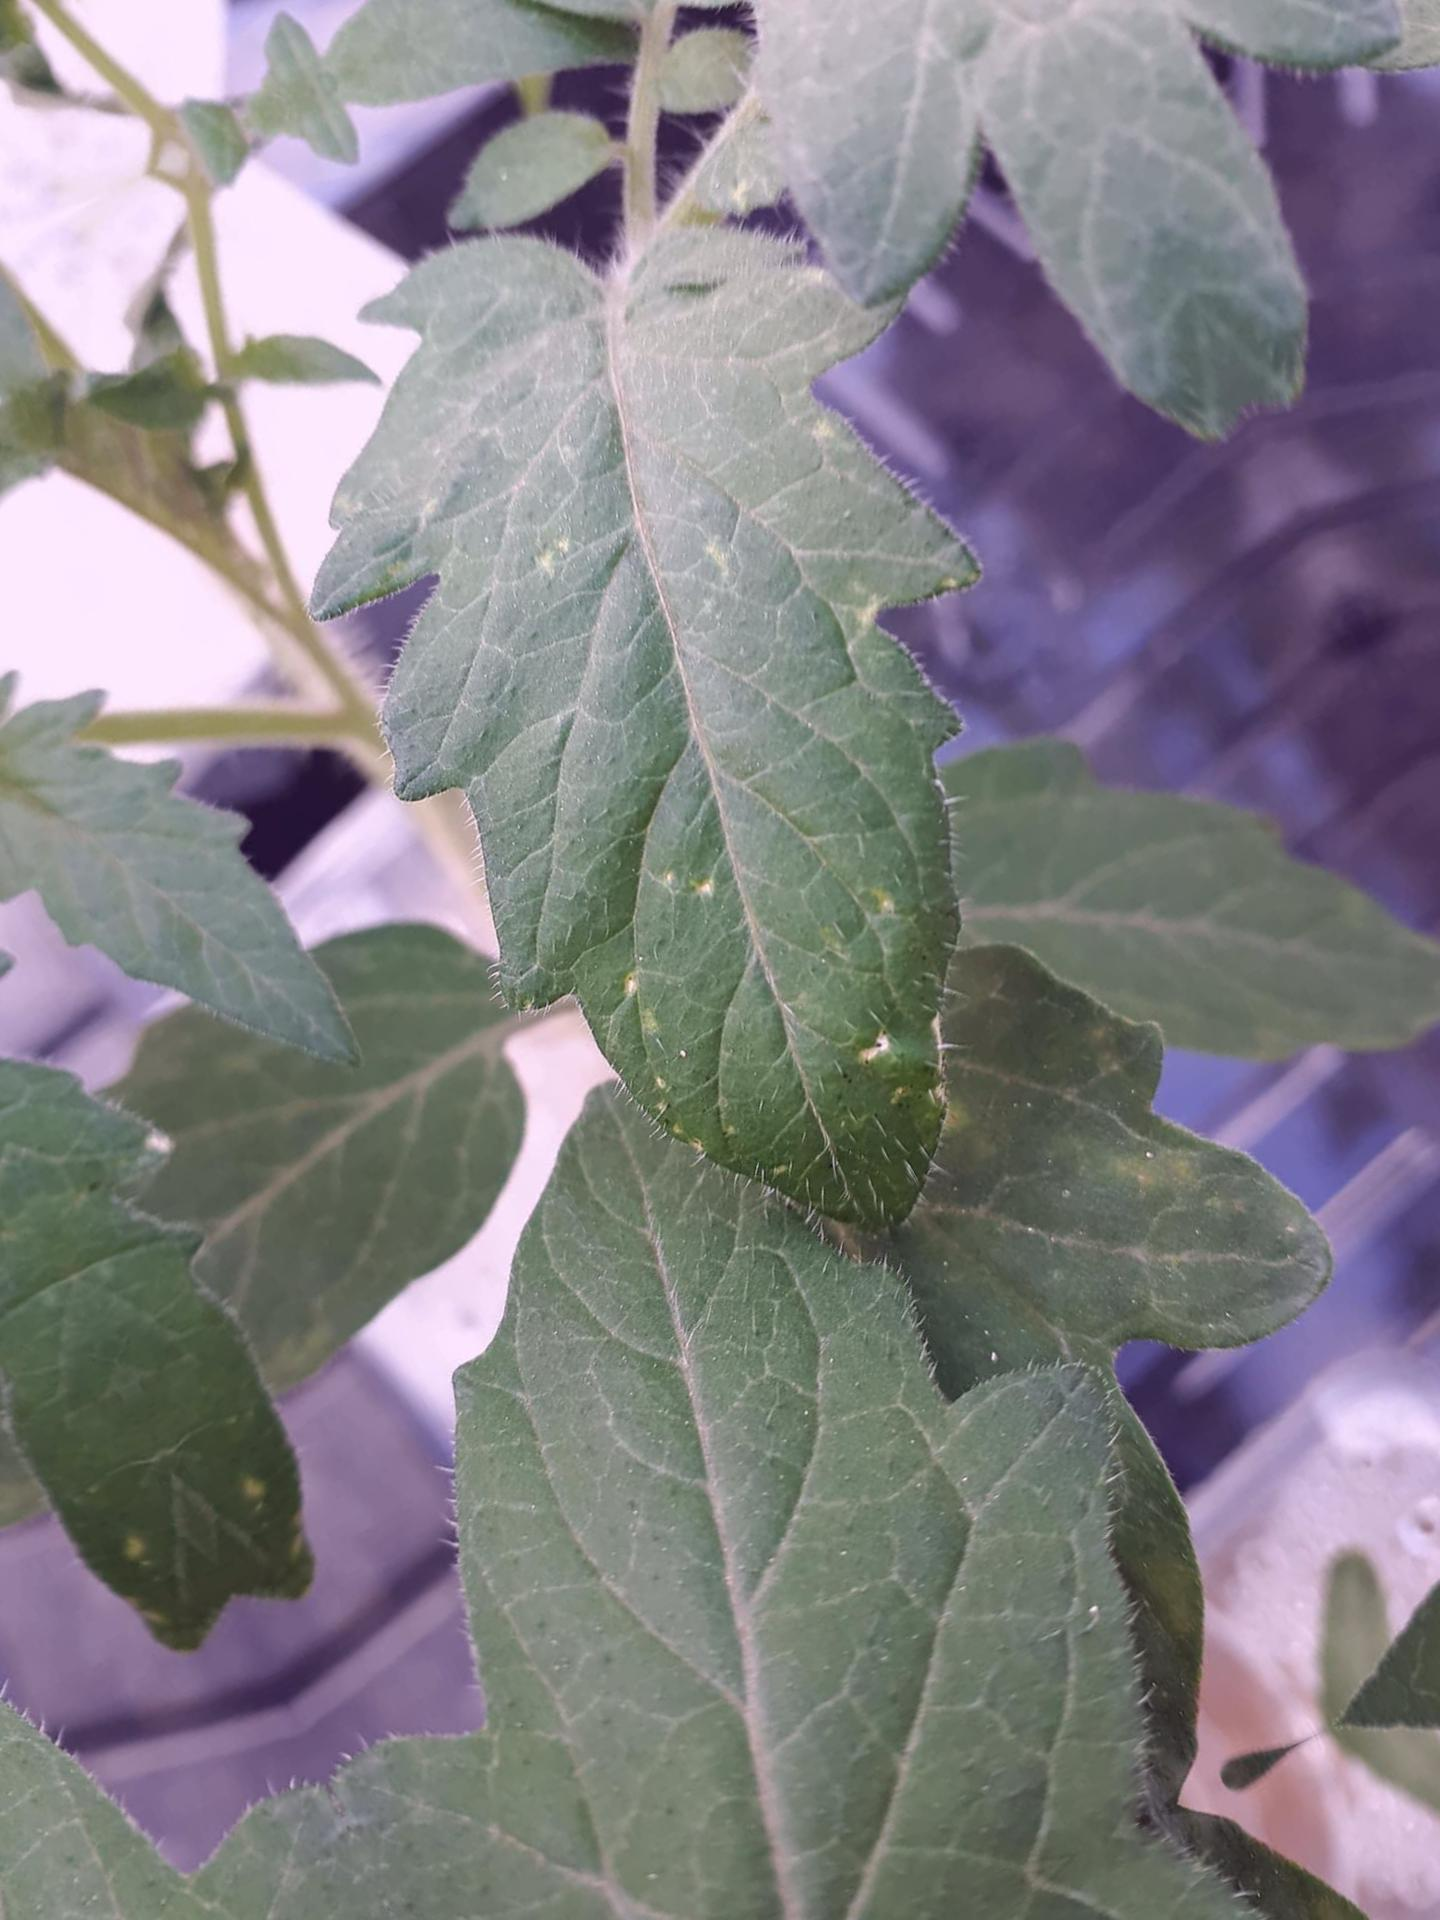Tomato mold leaf: (142, 53, 1218, 1368), (91, 912, 1284, 1920)
